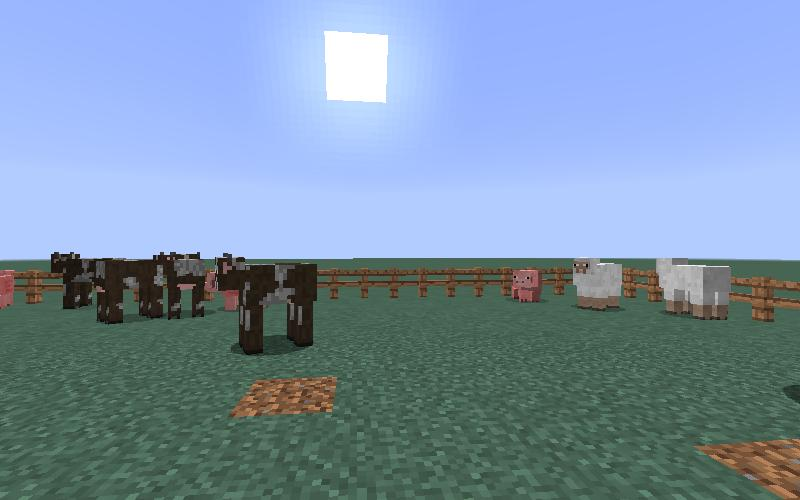cow: (210, 249, 322, 358), (92, 250, 175, 329), (166, 252, 207, 321), (50, 252, 94, 309)
pig: (510, 262, 540, 308)
sheep: (650, 252, 735, 324), (570, 253, 627, 314)
